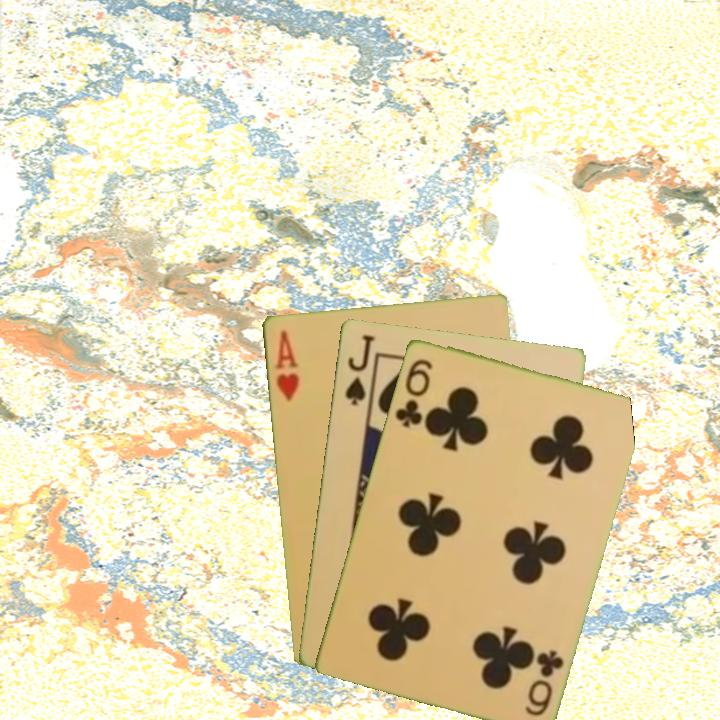6c: (391, 354, 435, 430), (521, 645, 566, 719)
Ah: (270, 326, 302, 403)
Js: (341, 330, 377, 408)
